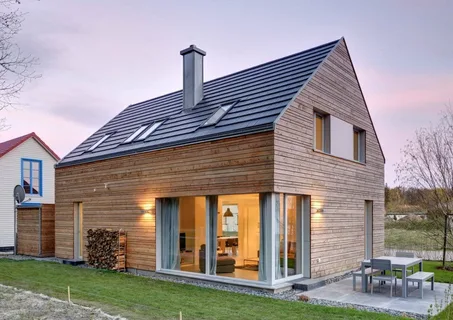private_hause: (61, 86, 394, 281)
